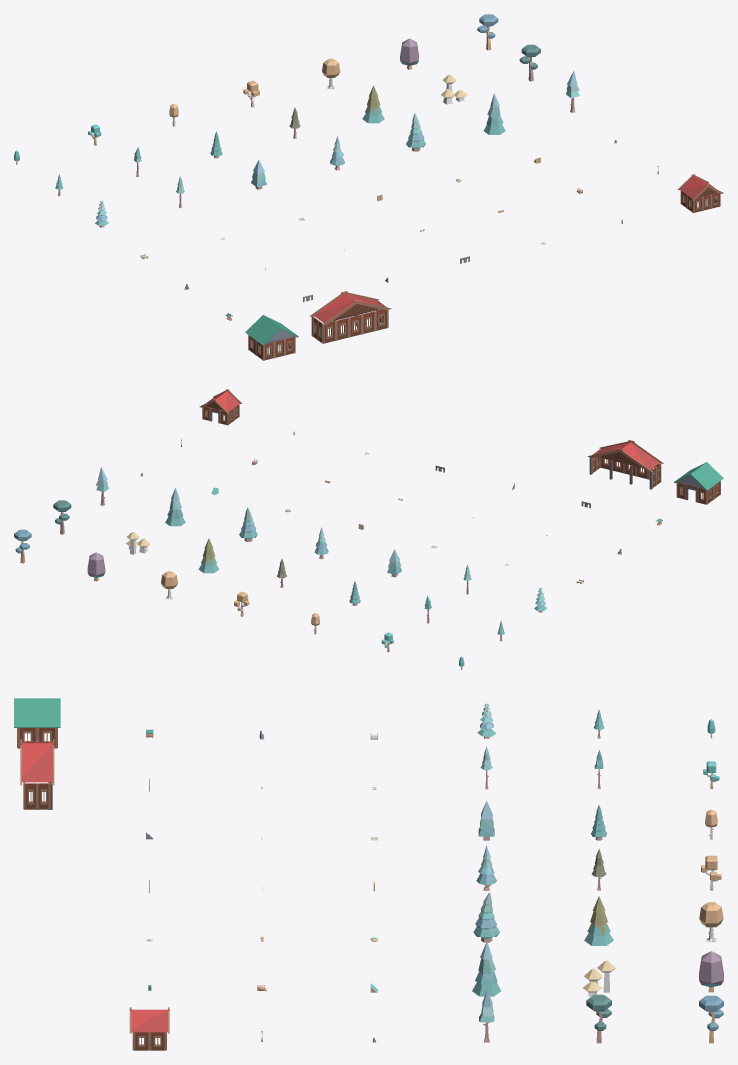
Rendered from BladeForestAssetCatalog.glb.
3 views of the same model, one above another, from view 1: azimuth 30°, elevation 25°; view 2: azimuth 150°, elevation 25°; view 3: azimuth 270°, elevation 25° (orthographic). The views are drawn at different scales.
Visible parts, largest first — view 1: RecordsHall, Workshop, Cottage; view 2: RecordsHall, Workshop, Cottage; view 3: RecordsHall, Workshop, Cottage, Frostleaf, GoldenPine, Sakura, Starfrost, GiantMushroom, MoonlitBonsai, GoldenOak, AncientCrown.
Part boxes in pixels (x1,y1,x2,y2): RecordsHall: [309, 291, 391, 343]; Workshop: [245, 315, 298, 360]; Cottage: [677, 174, 723, 212]; RecordsHall: [587, 440, 663, 489]; Workshop: [674, 462, 723, 504]; Cottage: [199, 389, 242, 425]; RecordsHall: [20, 739, 54, 809]; Workshop: [14, 698, 60, 748]; Cottage: [129, 1007, 169, 1050]; Frostleaf: [472, 941, 500, 996]; GoldenPine: [584, 896, 613, 945]; Sakura: [699, 951, 723, 992]; Starfrost: [473, 892, 499, 942]; GiantMushroom: [582, 960, 615, 996]; MoonlitBonsai: [586, 994, 611, 1043]; GoldenOak: [699, 902, 723, 942]; AncientCrown: [699, 995, 723, 1043].
Size of the model in its own units: 103 by 8 by 94.8.
Materials: 1 (1 with a texture image).
